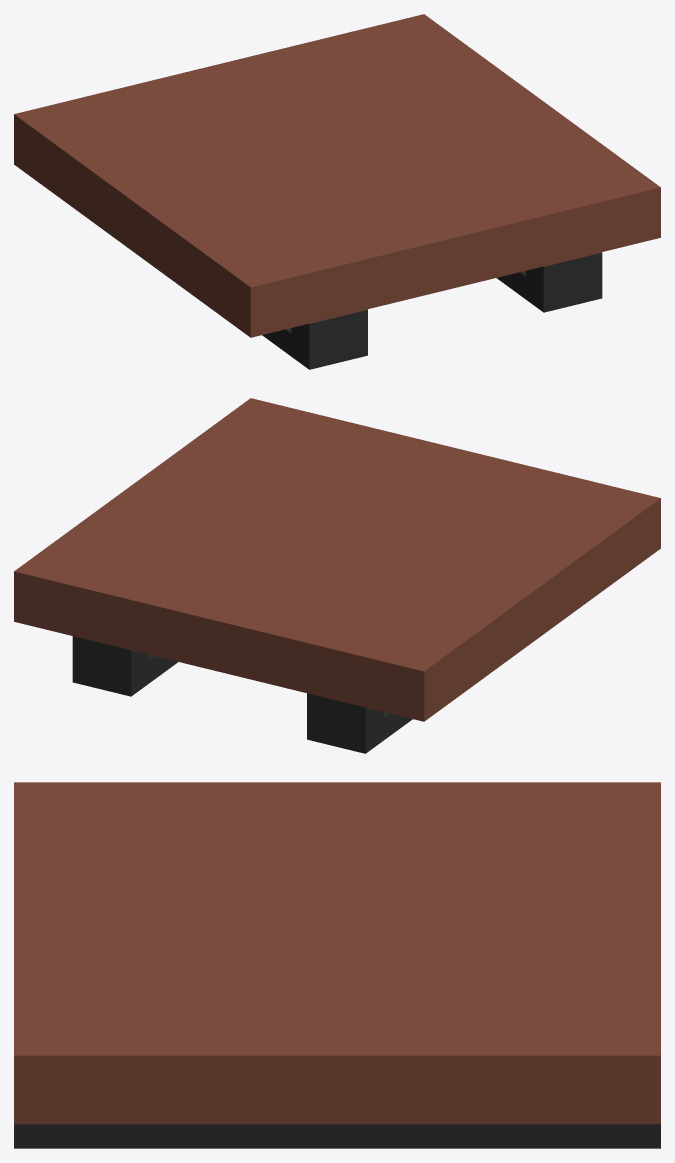
The model's file is coffeetable.fbx.
The picture shows the model from 3 angles, top to bottom: view 1: azimuth 30°, elevation 25°; view 2: azimuth 150°, elevation 25°; view 3: azimuth 270°, elevation 25°; orthographic projection. The views are drawn at different scales.
Parts seen in each view (by area): view 1: Coffeetable; view 2: Coffeetable; view 3: Coffeetable.
Boxes of the visible parts, x1=… form: Coffeetable: x1=14, y1=14, x2=660, y2=369; Coffeetable: x1=14, y1=398, x2=660, y2=753; Coffeetable: x1=14, y1=782, x2=660, y2=1148.
Size of the model in its own units: 361 by 81.31 by 361.
